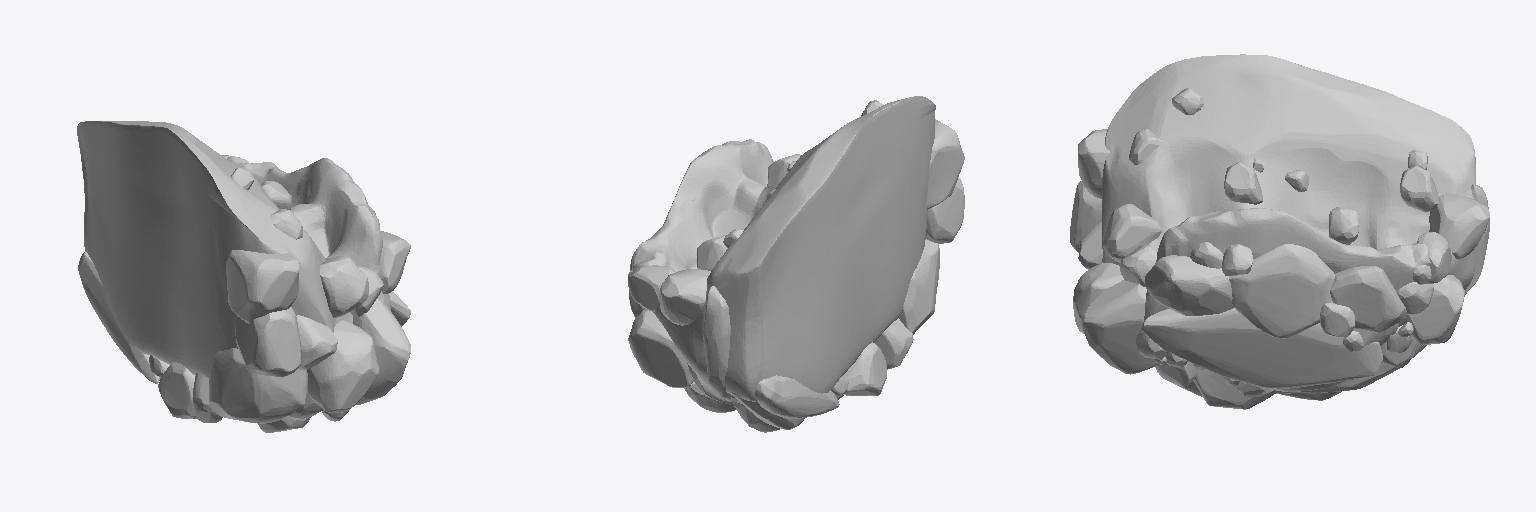
File: Cliff_bereg.OBJ
3 views of the same model, side by side, from view 1: azimuth 30°, elevation 25°; view 2: azimuth 150°, elevation 25°; view 3: azimuth 270°, elevation 25° (orthographic).
Parts seen in each view (by area): view 1: Group13943; view 2: Group13943; view 3: Group13943.
Boxes of the visible parts, x1,y1,x2,y2 form: Group13943: [77, 121, 410, 432]; Group13943: [628, 96, 964, 432]; Group13943: [1070, 54, 1489, 409].
Size of the model in its own units: 0.3024 by 0.4426 by 0.5432.